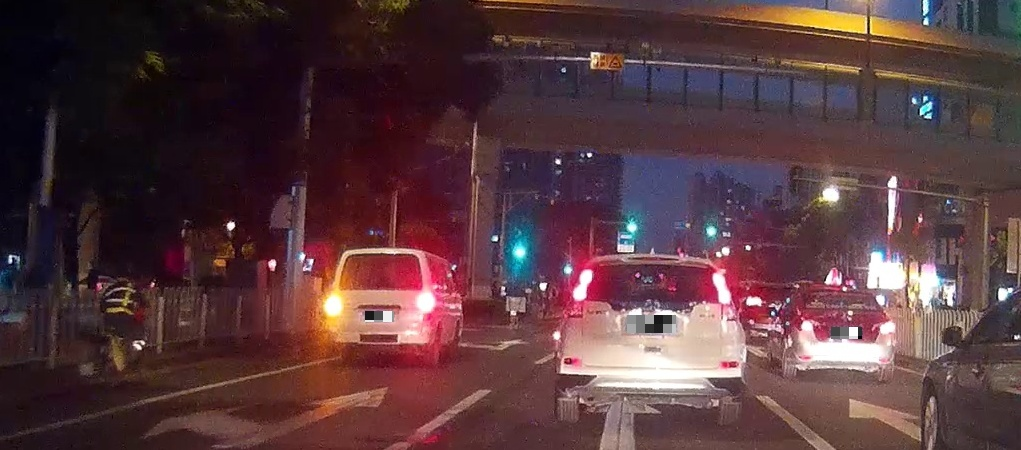L_light: (566, 267, 594, 302), (323, 295, 344, 317), (794, 314, 819, 331)
R_light: (710, 270, 733, 306), (415, 292, 436, 313), (877, 319, 896, 334)
T_light: (638, 263, 665, 269), (373, 255, 397, 260), (837, 291, 854, 295)
night-no: (554, 254, 746, 424), (323, 247, 436, 363), (793, 284, 895, 381)
plate_1: (365, 311, 394, 322)
plate_2: (627, 315, 676, 333)
plate_3: (831, 327, 862, 339)
